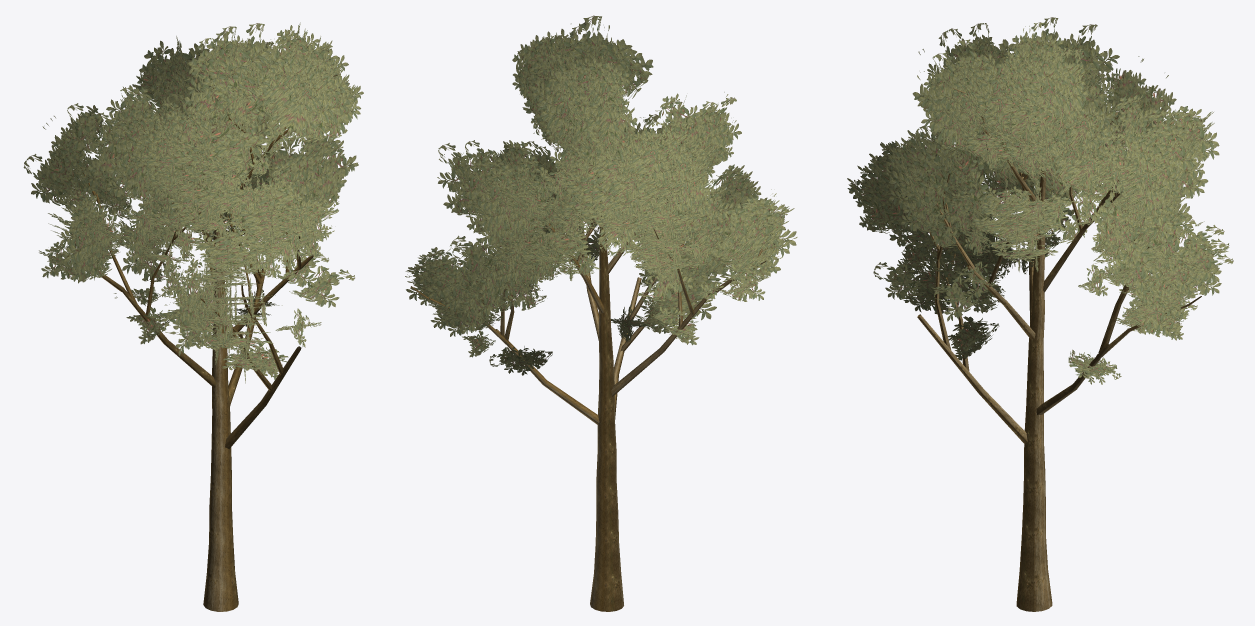
File: SM_Alder_01.gltf
3 renders of one model, left to right at view 1: azimuth 30°, elevation 25°; view 2: azimuth 150°, elevation 25°; view 3: azimuth 270°, elevation 25°, orthographic. The views are drawn at different scales.
Visible parts, largest first — view 1: SM_Alder_01; view 2: SM_Alder_01; view 3: SM_Alder_01.
Part boxes in pixels (x1,y1,x2,y2): SM_Alder_01: (23,22,363,611); SM_Alder_01: (405,15,797,611); SM_Alder_01: (847,17,1233,611).
Bounding box in the file's own units: 8.89 × 14.11 × 8.71.
Materials: 2 (2 with a texture image).
